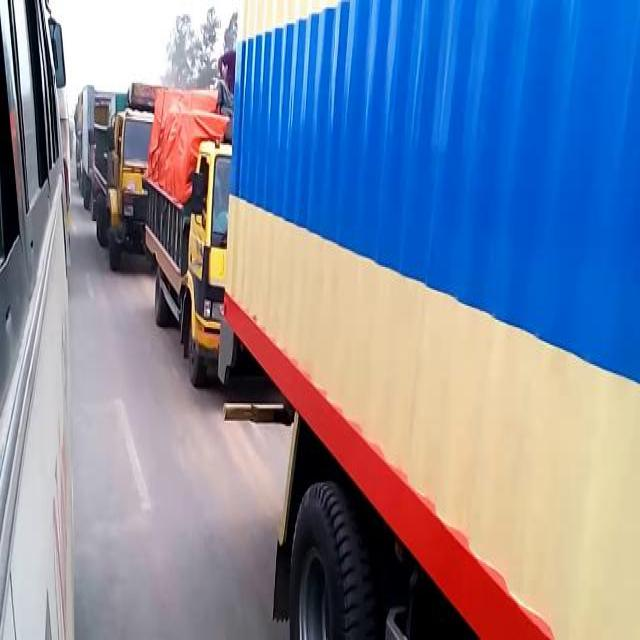bus: (1, 2, 73, 634)
truck: (222, 0, 634, 629), (145, 80, 229, 384), (91, 80, 163, 265)
